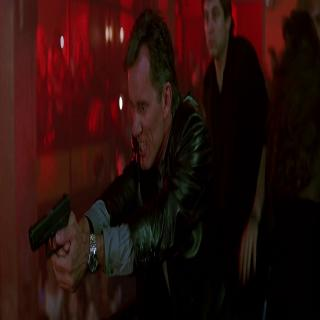gun: (27, 188, 80, 294)
